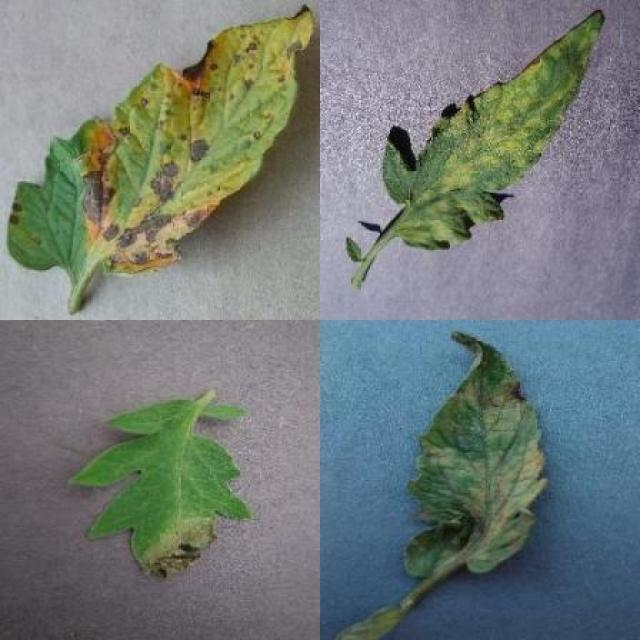Early Blight: (8, 6, 315, 277)
Late Blight: (65, 398, 248, 583)
Leaf Mold: (384, 8, 602, 252), (402, 330, 548, 573)
